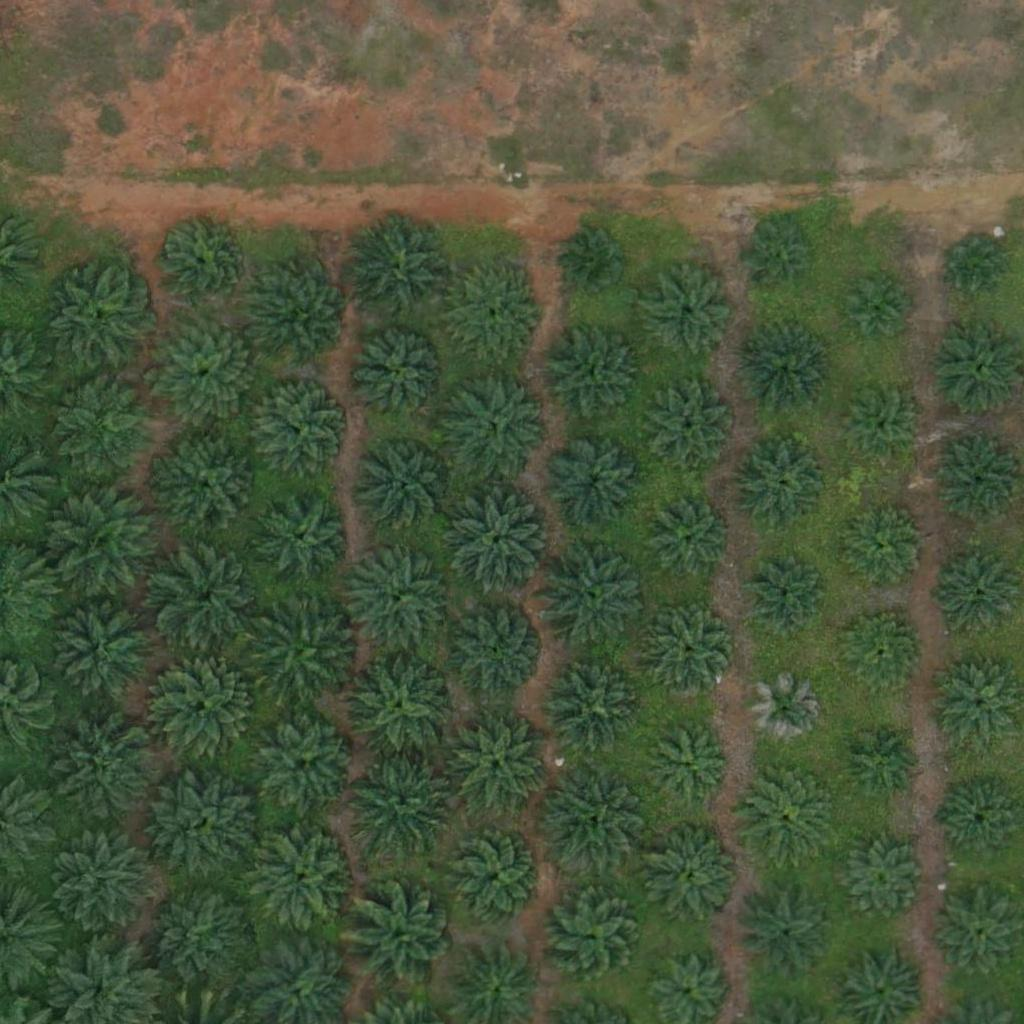Kelapa_Sawit: (149, 317, 262, 431), (153, 429, 266, 543), (250, 593, 363, 707), (342, 650, 455, 764), (350, 749, 463, 863), (48, 824, 161, 937), (537, 540, 650, 653), (344, 881, 457, 994), (340, 543, 452, 657), (537, 765, 649, 879), (51, 487, 163, 600), (49, 595, 161, 708), (153, 544, 265, 657), (152, 768, 264, 881), (344, 214, 456, 327), (444, 484, 556, 597), (143, 884, 255, 997), (57, 719, 157, 820), (155, 655, 255, 756), (252, 269, 352, 370), (257, 712, 357, 813), (353, 328, 453, 429), (355, 434, 455, 535), (446, 266, 546, 367), (448, 372, 548, 473), (542, 324, 642, 425), (545, 432, 645, 533), (543, 656, 643, 757), (639, 262, 739, 363), (741, 765, 841, 866), (829, 830, 929, 931), (735, 880, 835, 981), (250, 827, 350, 928), (48, 269, 148, 369), (61, 379, 161, 479), (252, 378, 352, 478), (255, 489, 355, 589), (447, 600, 547, 700), (449, 717, 549, 817), (643, 824, 743, 924), (542, 886, 642, 986), (446, 827, 546, 927), (647, 386, 735, 475), (837, 610, 925, 699), (838, 717, 926, 805), (741, 329, 829, 417), (738, 442, 826, 530), (840, 508, 928, 596), (934, 891, 1022, 979), (156, 217, 243, 305), (644, 500, 731, 588), (647, 610, 734, 698), (936, 437, 1023, 525), (935, 553, 1022, 641), (936, 663, 1023, 751), (653, 727, 728, 803), (843, 392, 918, 467), (747, 560, 822, 635), (749, 674, 824, 749), (748, 225, 811, 288), (845, 272, 908, 335), (565, 227, 628, 290), (941, 233, 1003, 295)
